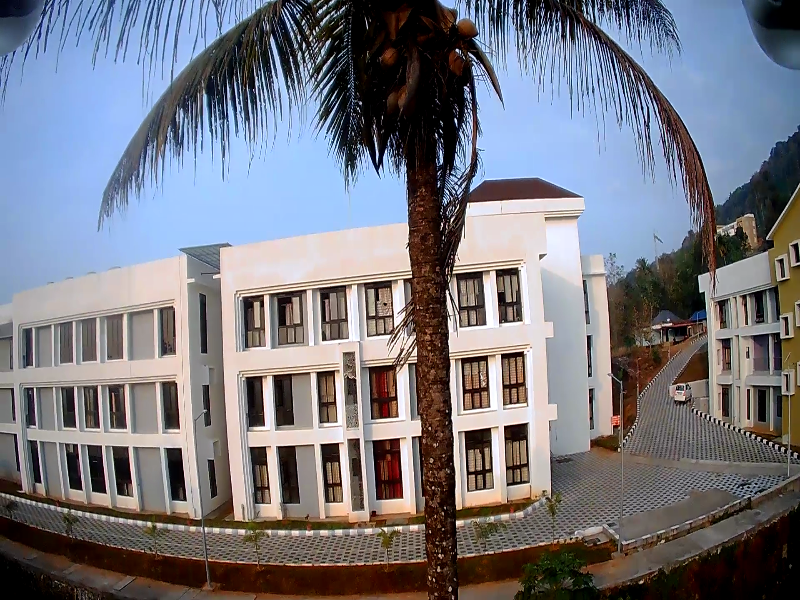coconut: (448, 18, 484, 41), (442, 50, 465, 78), (377, 45, 403, 69), (384, 89, 400, 112)
